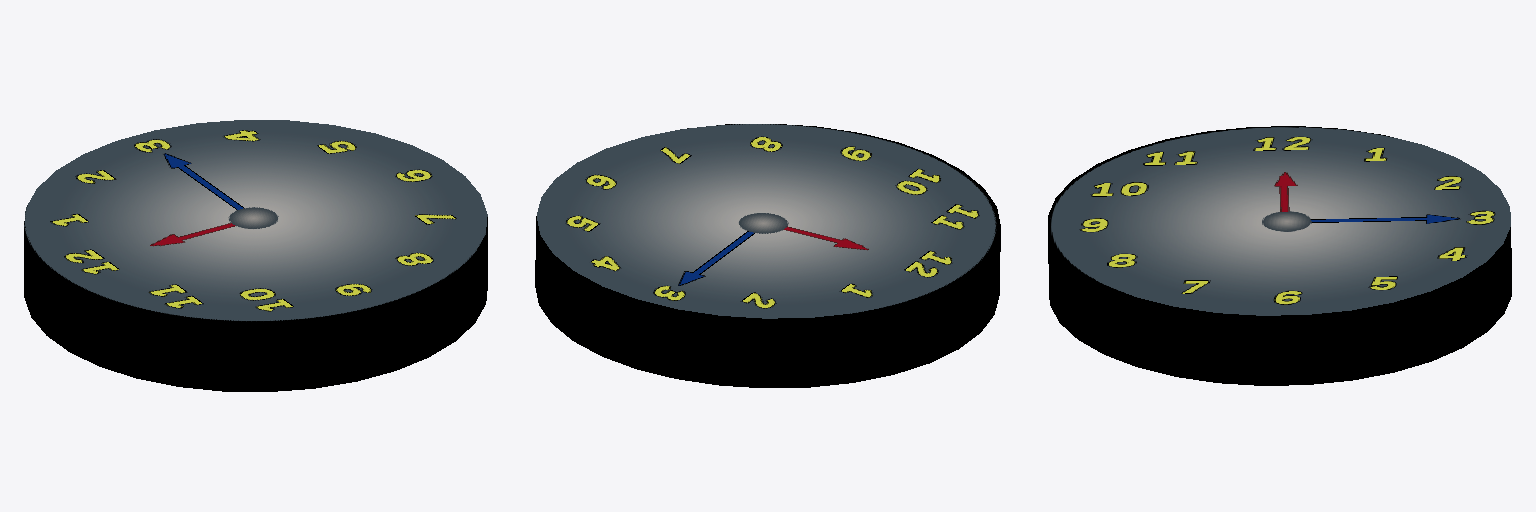
The picture shows the model from 3 angles: view 1: azimuth 30°, elevation 25°; view 2: azimuth 150°, elevation 25°; view 3: azimuth 270°, elevation 25°; orthographic projection.
Visible parts, largest first — view 1: 円柱; view 2: 円柱; view 3: 円柱.
Part boxes in pixels (bbox=[...]): 円柱: bbox=[24, 120, 487, 391]; 円柱: bbox=[535, 124, 1000, 387]; 円柱: bbox=[1048, 126, 1511, 385].
Size of the model in its own units: 2 by 0.3686 by 2.
Materials: 1 (1 with a texture image).